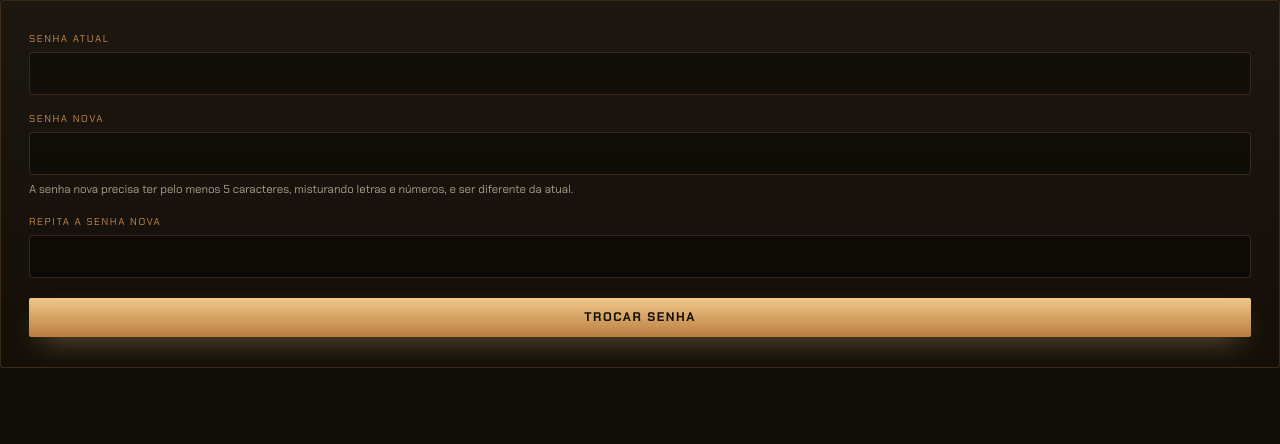
a regra da senha é dita antes, e conferida antes de enviar › sem número: avisa sem ir ao servidor
Type "k7wm-3qfa-x9pe" into the password field labelled "SENHA ATUAL" at x=640, y=74, box [29,52,1251,95]
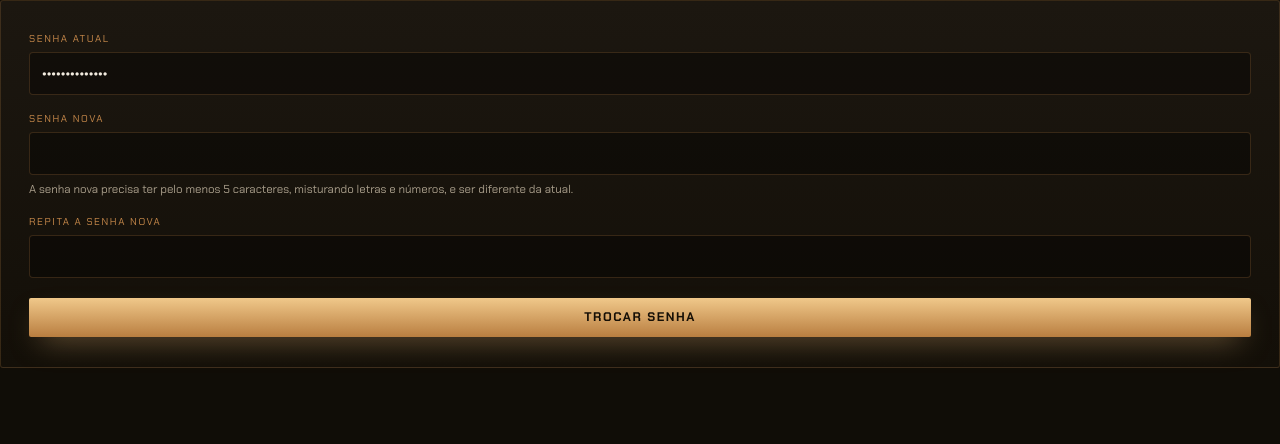
Type "senhasemnumeroalgum" into the password field labelled "SENHA NOVA" at x=640, y=154, box [29,132,1251,175]
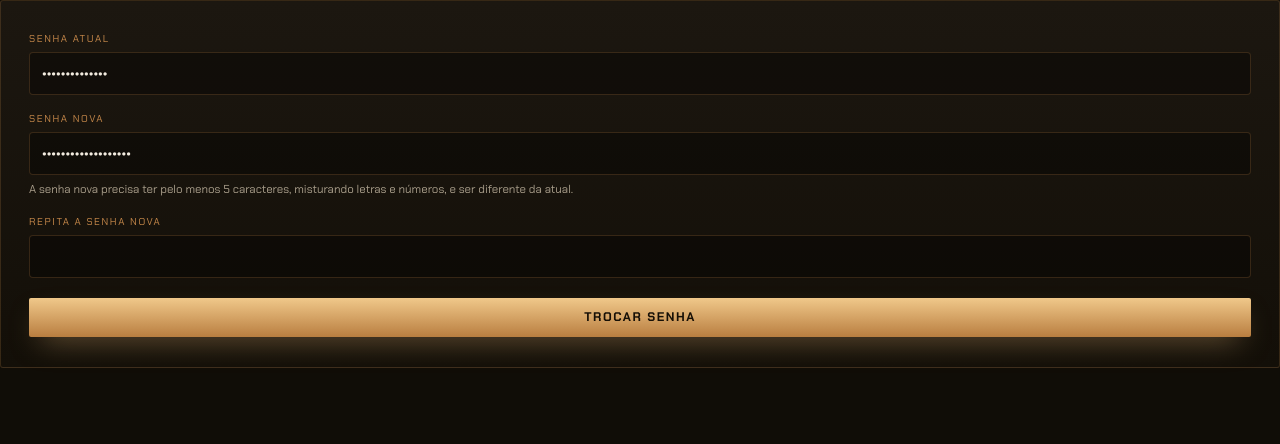
Type "senhasemnumeroalgum" into the password field labelled "REPITA A SENHA NOVA" at x=640, y=257, box [29,235,1251,278]
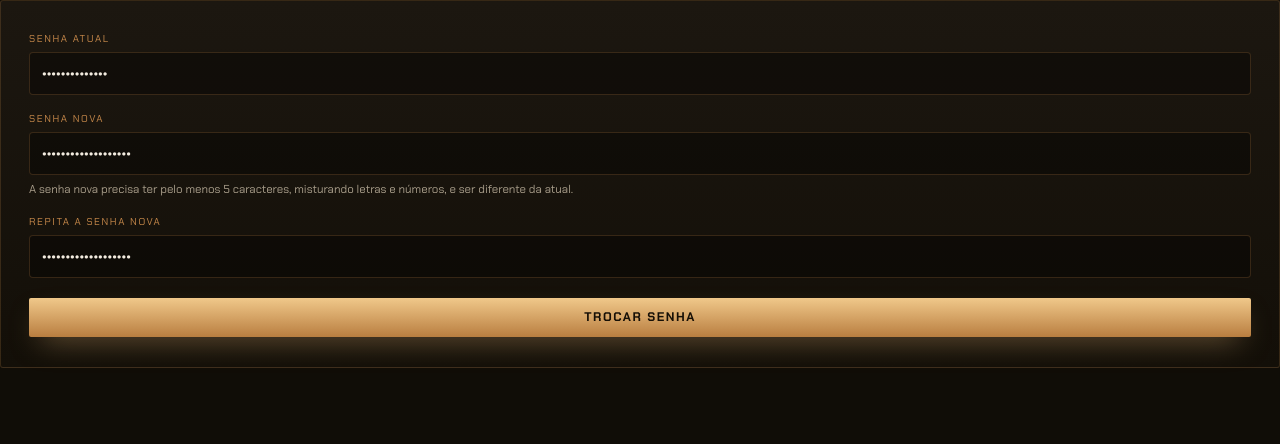
Click the button "TROCAR SENHA" at x=640, y=318, box [29,298,1251,337]
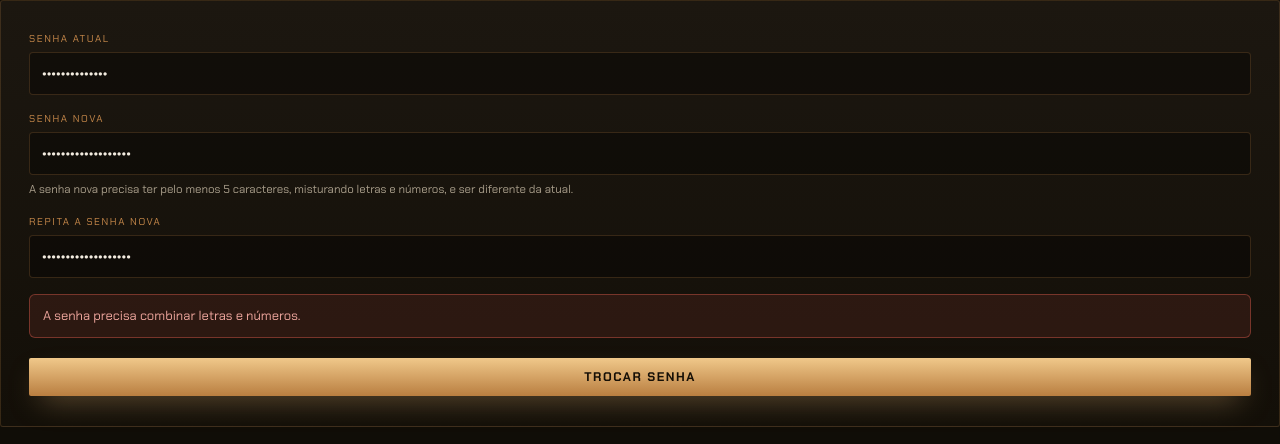
Expected: the message reads "A senha precisa combinar letras e números.", [43,307,300,324]
